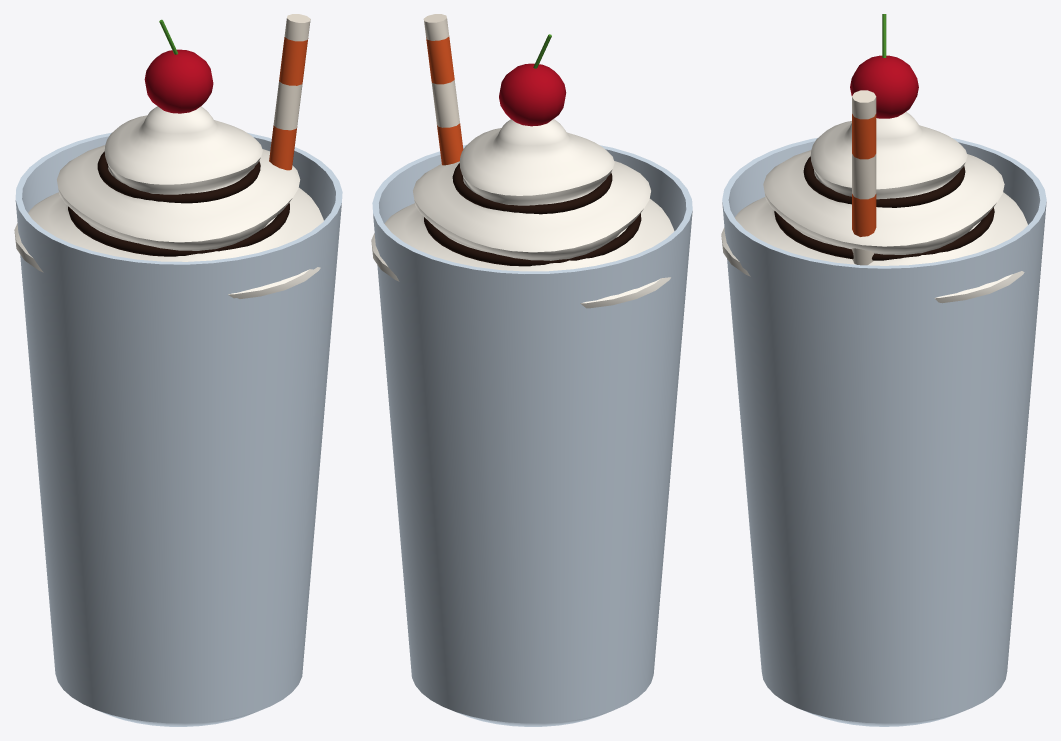
File: milkshake-chocolate.glb
The picture shows the model from 3 angles, left to right: view 1: azimuth 30°, elevation 25°; view 2: azimuth 150°, elevation 25°; view 3: azimuth 270°, elevation 25°; orthographic projection. The views are drawn at different scales.
Visible parts, largest first — view 1: milkshake-chocolate; view 2: milkshake-chocolate; view 3: milkshake-chocolate.
Part boxes in pixels (x1,y1,x2,y2): milkshake-chocolate: (14, 14, 342, 726); milkshake-chocolate: (371, 14, 692, 726); milkshake-chocolate: (721, 14, 1046, 726).
Size of the model in its own units: 0.08 by 0.18 by 0.0802.
